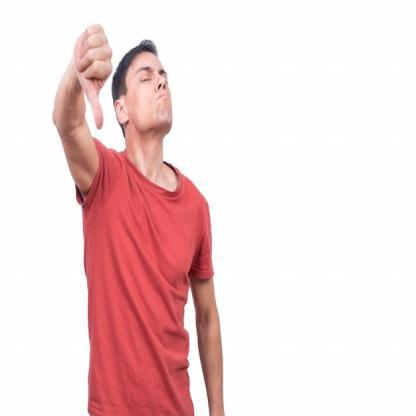thumb_down: (69, 22, 114, 128)
